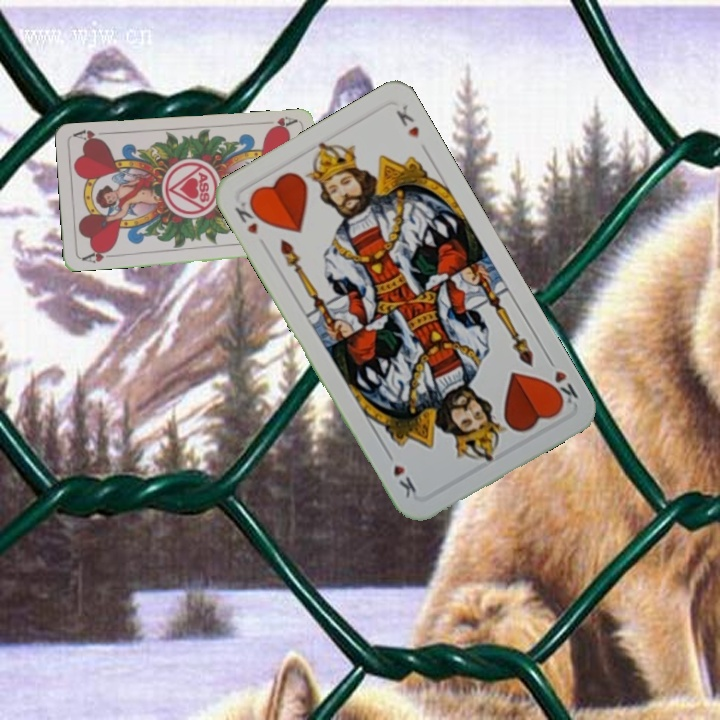HA: (258, 112, 298, 133), (78, 245, 118, 265)
HK: (543, 352, 581, 410), (230, 202, 260, 238)
